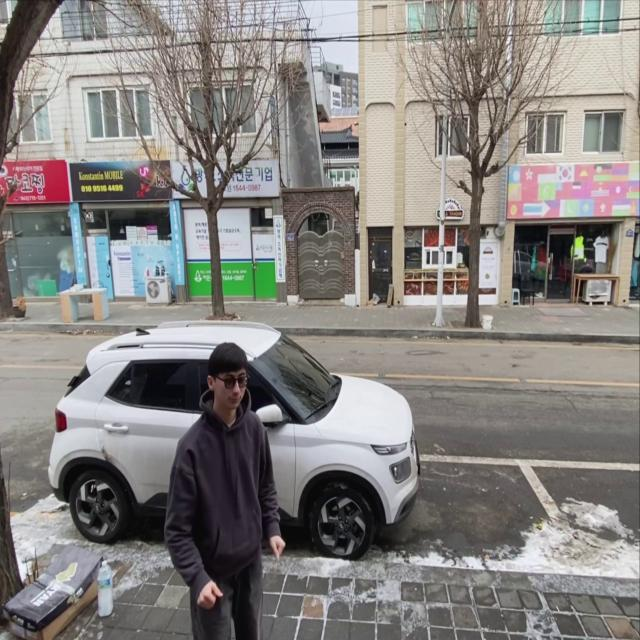bare_hand: (196, 576, 223, 610), (268, 533, 288, 564)
